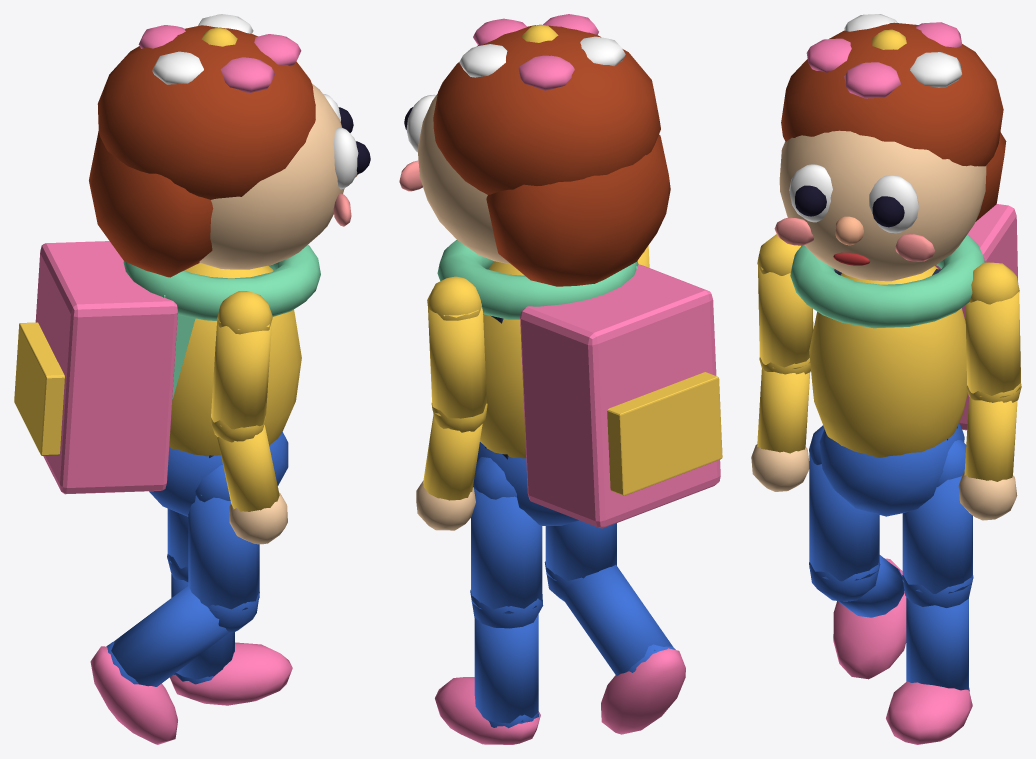
The model's file is hrdina_5_chuze.glb.
3 views of the same model, side by side, from view 1: azimuth 30°, elevation 25°; view 2: azimuth 150°, elevation 25°; view 3: azimuth 270°, elevation 25° (orthographic). The views are drawn at different scales.
Visible parts, largest first — view 1: Cube.001, Sphere.011, Sphere.002, Sphere.012, Sphere, Torus, Cylinder.005, Cylinder.004, Cylinder, Cube.002, Sphere.036, Sphere.031 (+16 smaller); view 2: Cube.001, Sphere.011, Sphere.012, Cube.002, Cylinder.006, Cylinder.005, Cylinder.007, Sphere, Torus, Cylinder.002, Sphere.002, Sphere.031 (+16 smaller); view 3: Sphere, Sphere.011, Sphere.002, Torus, Sphere.001, Cylinder.006, Cylinder.004, Cylinder.007, Cylinder.002, Sphere.031, Cylinder, Sphere.036 (+27 smaller).
Boxes of the visible parts, x1,y1,x2,y2 form: Cube.001: [35, 241, 177, 494]; Sphere.011: [97, 25, 315, 199]; Sphere.002: [199, 83, 344, 269]; Sphere.012: [89, 131, 213, 277]; Sphere: [169, 263, 301, 456]; Torus: [123, 245, 320, 320]; Cylinder.005: [109, 586, 228, 686]; Cylinder.004: [188, 495, 259, 612]; Cylinder: [211, 317, 271, 429]; Cube.002: [14, 322, 64, 455]; Sphere.036: [170, 642, 292, 705]; Sphere.031: [90, 646, 177, 744]; Cube.001: [520, 264, 720, 528]; Sphere.011: [433, 25, 660, 194]; Sphere.012: [486, 134, 670, 286]; Cube.002: [607, 372, 722, 495]; Cylinder.006: [471, 488, 542, 613]; Cylinder.005: [562, 565, 672, 675]; Cylinder.007: [474, 614, 538, 723]; Sphere: [480, 261, 526, 458]; Torus: [437, 240, 638, 319]; Cylinder.002: [428, 307, 487, 418]; Sphere.002: [418, 94, 510, 264]; Sphere.031: [601, 648, 685, 734]; Sphere: [809, 266, 967, 457]; Sphere.011: [781, 22, 1003, 166]; Sphere.002: [779, 130, 986, 281]; Torus: [790, 234, 984, 328]; Sphere.001: [819, 422, 964, 516]; Cylinder.006: [902, 476, 972, 593]; Cylinder.004: [809, 454, 879, 581]; Cylinder.007: [906, 597, 968, 690]; Cylinder.002: [965, 292, 1020, 397]; Sphere.031: [833, 558, 906, 679]; Cylinder: [758, 266, 813, 368]; Sphere.036: [886, 681, 972, 744].
Bounding box in the file's own units: 0.6011 × 1.28 × 0.4564.
